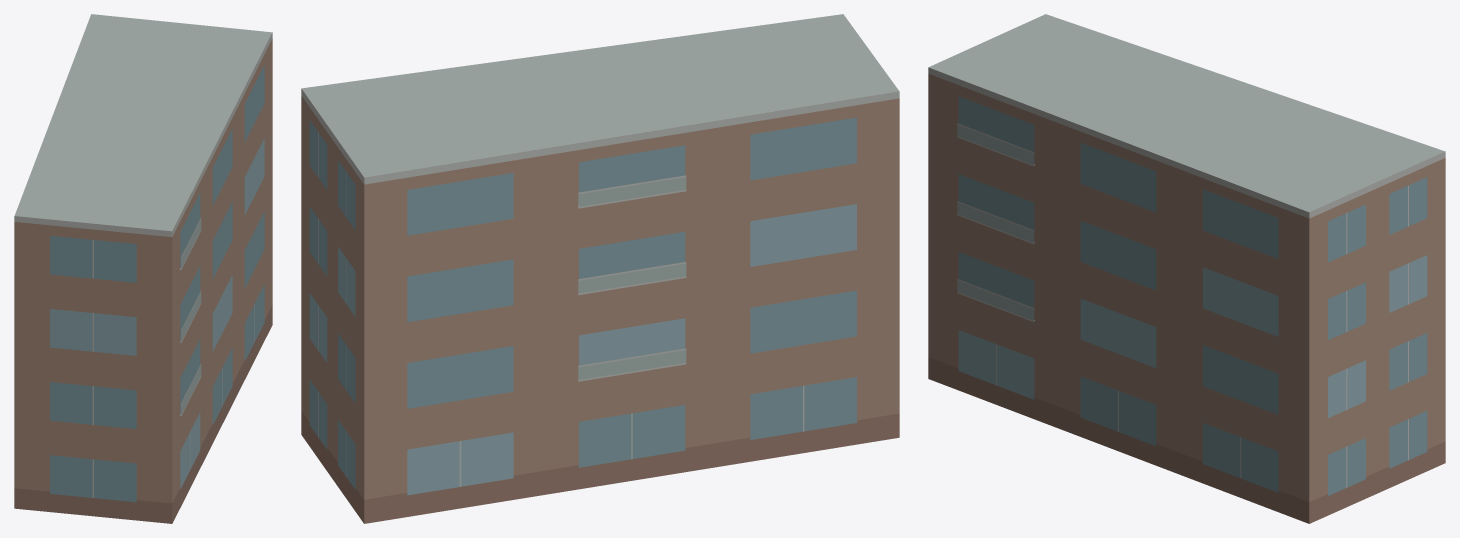
The model's file is survey-upis-32881845.glb.
3 renders of one model, left to right at view 1: azimuth 30°, elevation 25°; view 2: azimuth 150°, elevation 25°; view 3: azimuth 270°, elevation 25°, orthographic. The views are drawn at different scales.
Visible parts, largest first — view 1: survey-upis-32881845.tmp; view 2: survey-upis-32881845.tmp; view 3: survey-upis-32881845.tmp.
Part boxes in pixels (left/top/right/bottom): survey-upis-32881845.tmp: left=14, top=14, right=272, bottom=523; survey-upis-32881845.tmp: left=301, top=14, right=899, bottom=523; survey-upis-32881845.tmp: left=928, top=14, right=1445, bottom=523.
Size of the model in its own units: 16.67 by 12.2 by 18.37.
